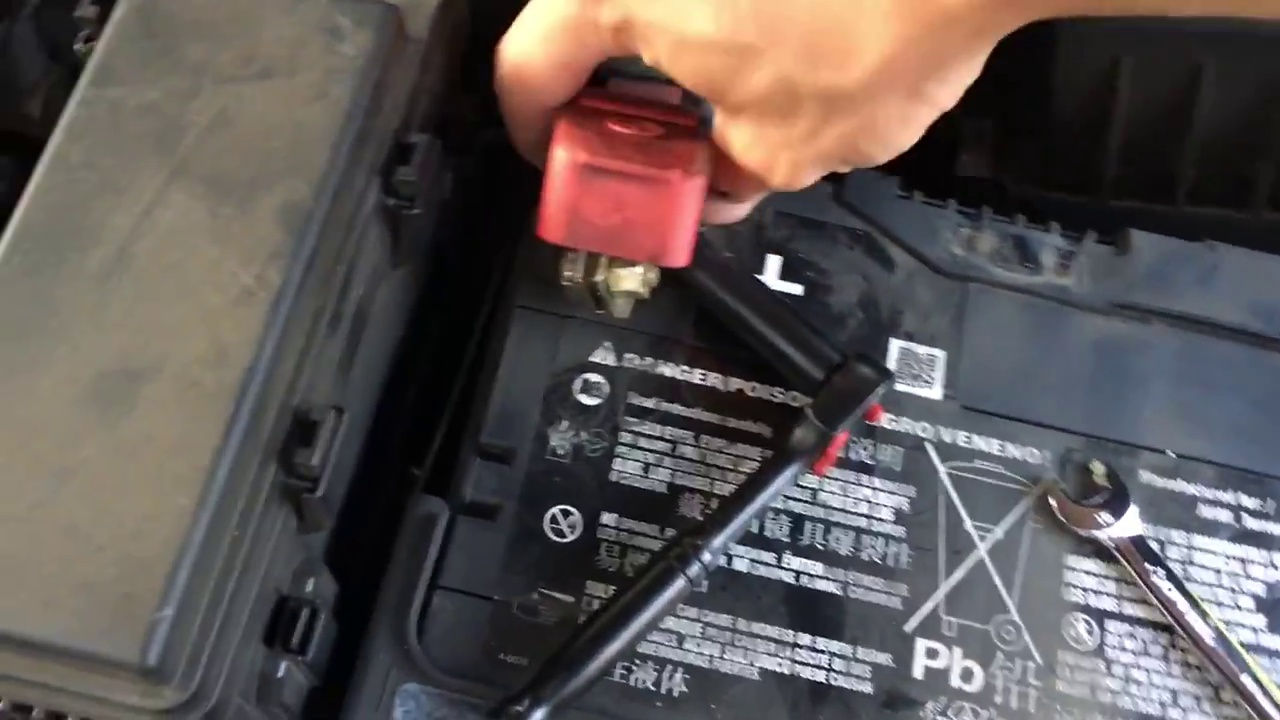battery: (406, 1, 1280, 720)
pos_touched: (468, 23, 944, 328)
